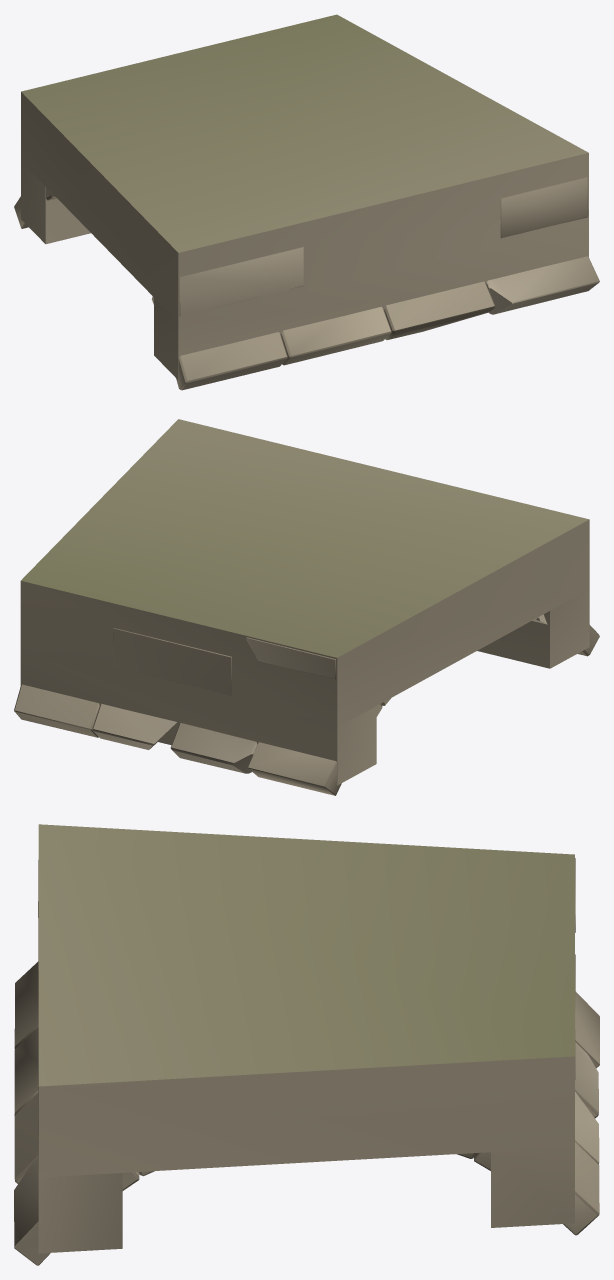
The model's file is arena_vault_b.glb.
3 views of the same model, one above another, from view 1: azimuth 30°, elevation 25°; view 2: azimuth 150°, elevation 25°; view 3: azimuth 270°, elevation 25° (orthographic). The views are drawn at different scales.
Visible parts, largest first — view 1: arena_vault_b_far, arena_vault_b; view 2: arena_vault_b_far, arena_vault_b; view 3: arena_vault_b_far, arena_vault_b.
Boxes of the visible parts, x1,y1,x2,y2 form: arena_vault_b_far: (21,14,588,380); arena_vault_b: (14,177,599,390); arena_vault_b_far: (20,419,589,785); arena_vault_b: (14,614,599,795); arena_vault_b_far: (38,824,574,1253); arena_vault_b: (14,858,599,1265).
Bounding box in the file's own units: 18.68 × 5.94 × 17.49.
